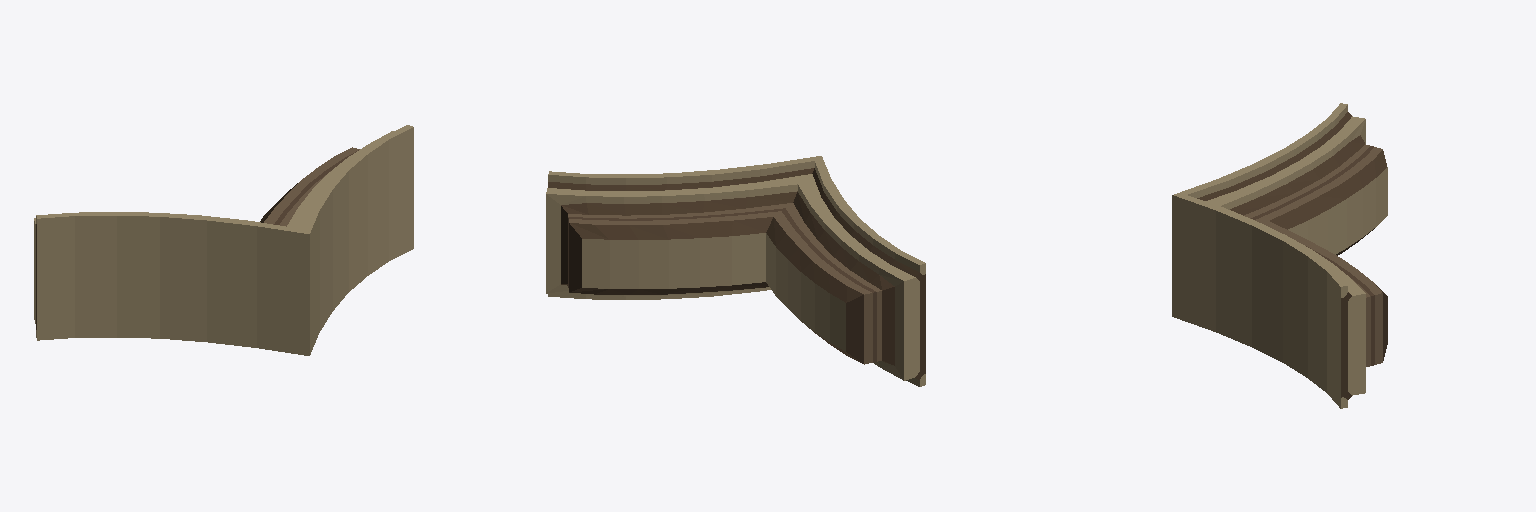
File: gujian1.obj
The picture shows the model from 3 angles: view 1: azimuth 30°, elevation 25°; view 2: azimuth 150°, elevation 25°; view 3: azimuth 270°, elevation 25°; orthographic projection.
Parts seen in each view (by area): view 1: group_pasted__group59_pasted__polySurface102; view 2: group_pasted__group59_pasted__polySurface102; view 3: group_pasted__group59_pasted__polySurface102.
Part boxes in pixels (left/top/right/bottom): group_pasted__group59_pasted__polySurface102: left=34, top=125, right=413, bottom=355; group_pasted__group59_pasted__polySurface102: left=546, top=156, right=925, bottom=386; group_pasted__group59_pasted__polySurface102: left=1172, top=103, right=1387, bottom=408.
Bounding box in the file's own units: 173 × 53.61 × 85.73.